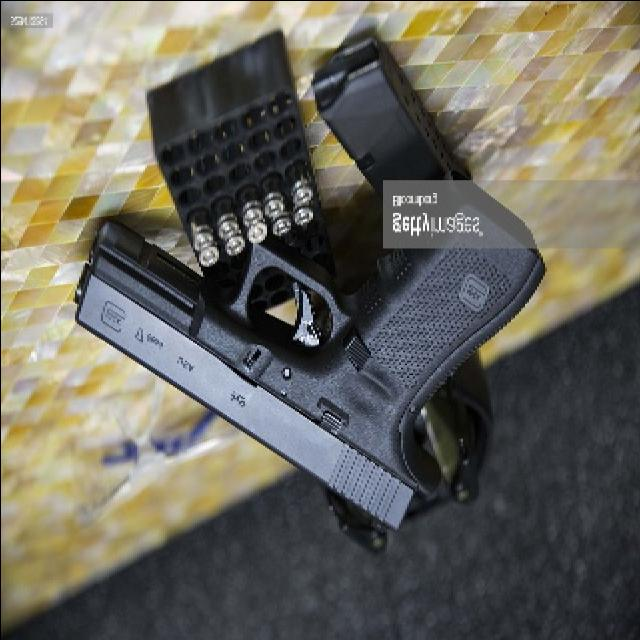handgun: (71, 184, 549, 550)
